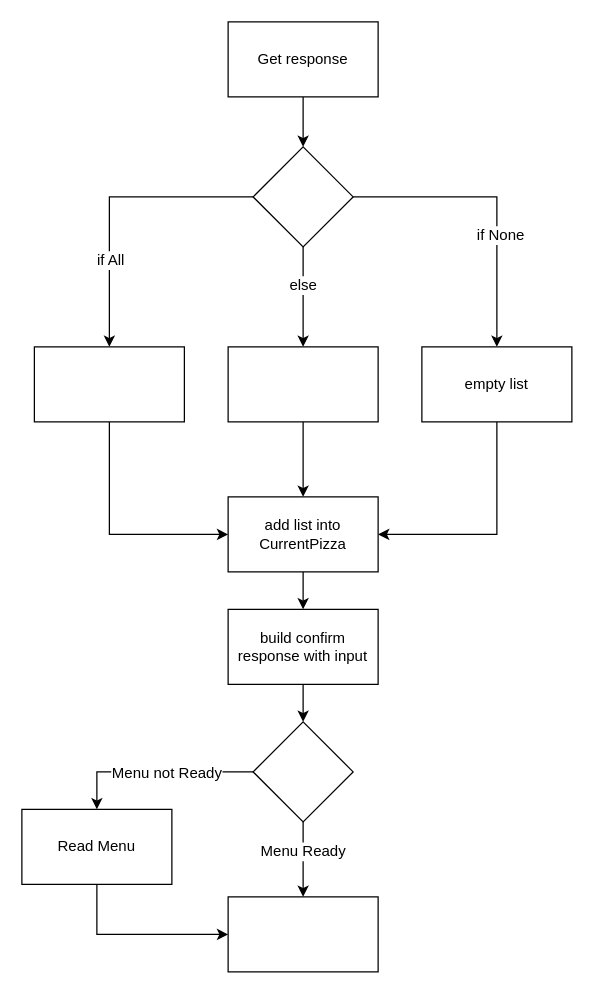
This 594x994 diagram has some shape labels left out. The box of each missing label's shape, as (x1, y1, x2, y2) in pixels:
Build response with next menu: (227, 896, 378, 972)
list from current menu: (33, 346, 184, 422)
list with specific: (227, 346, 378, 422)
